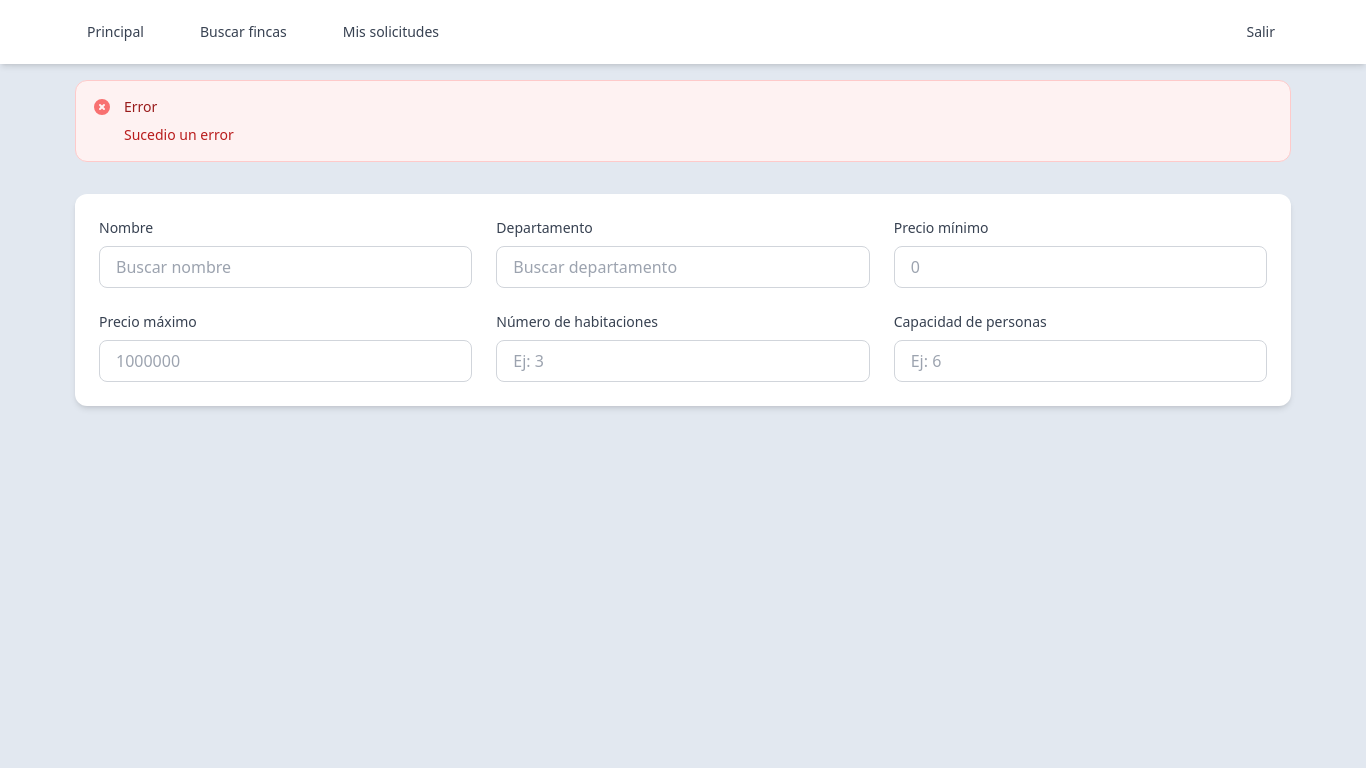
Test: Search Properties Page › Search and Filters › should filter properties by department
Step 1. Type "Maldonado" into the field with id "department" → [683, 267], box [496, 246, 869, 288]
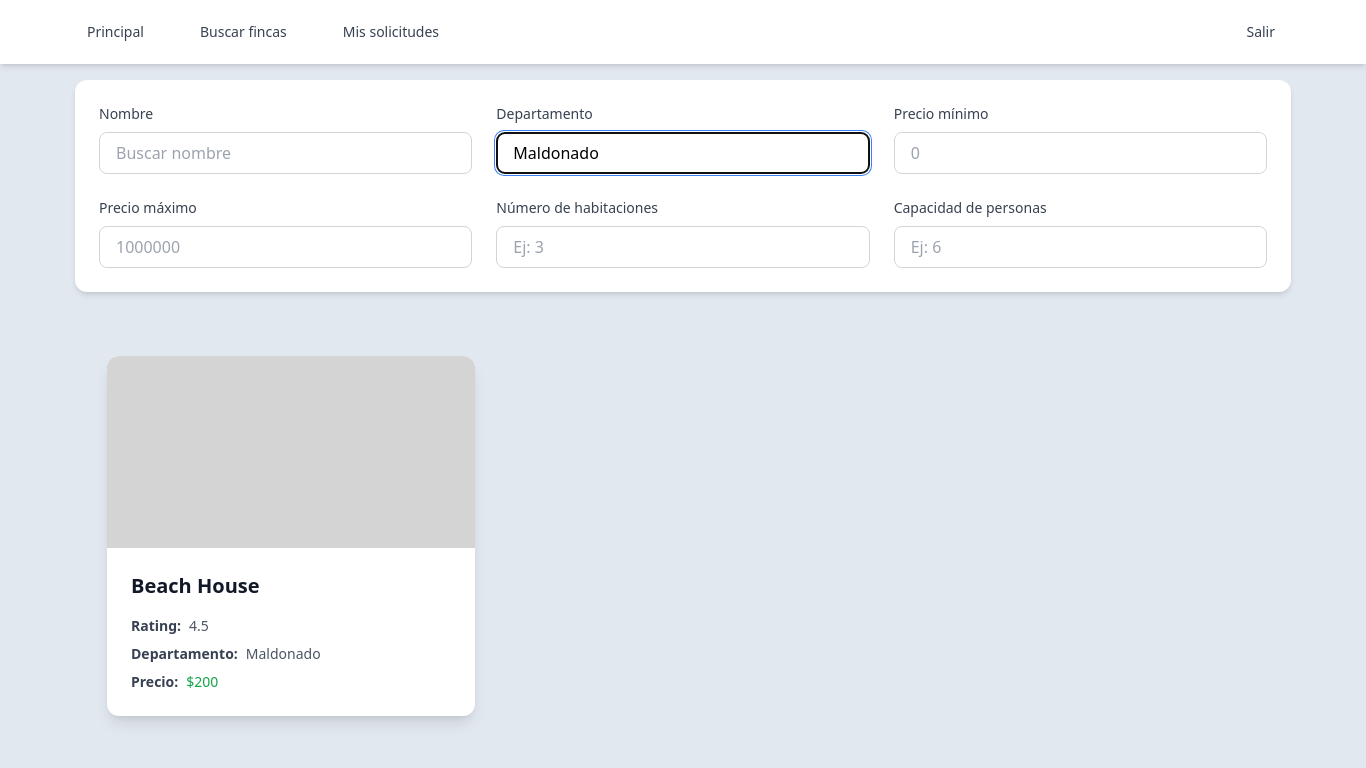
Expected: the heading "Beach House" is shown, [131, 572, 260, 599]
